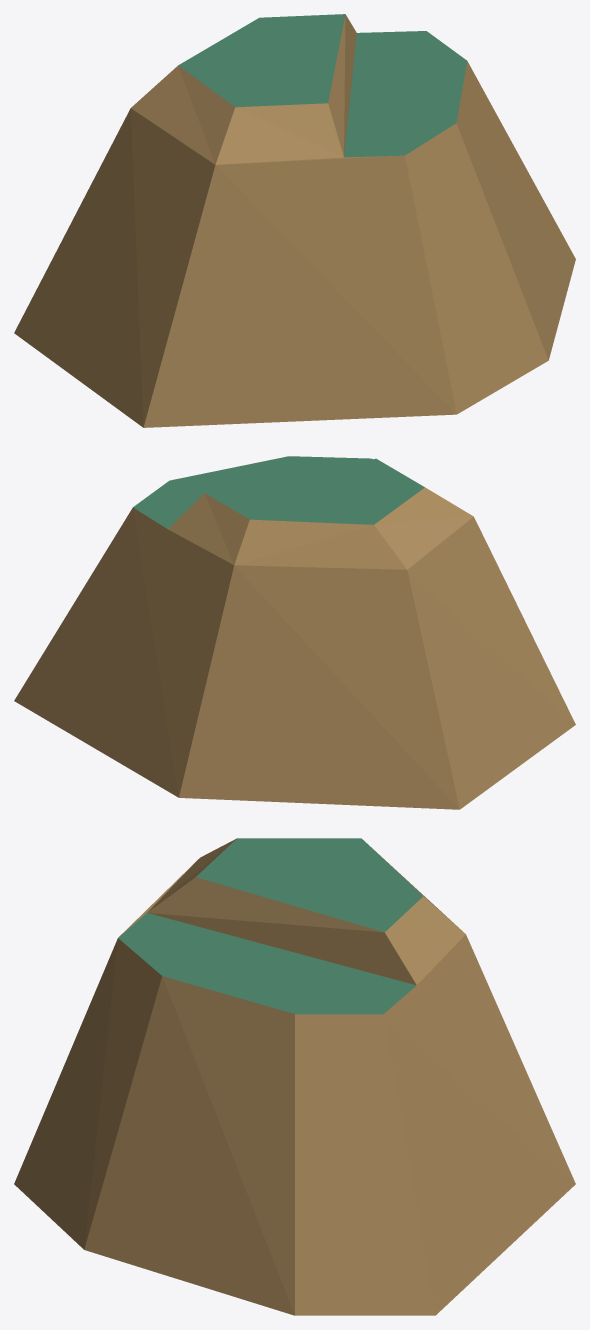
The model's file is Rock_Small_Mesa_Eroded_Moss_Grass_02.FBX.
The picture shows the model from 3 angles, top to bottom: view 1: azimuth 30°, elevation 25°; view 2: azimuth 150°, elevation 25°; view 3: azimuth 270°, elevation 25°; orthographic projection. The views are drawn at different scales.
Visible parts, largest first — view 1: Rock_Small_Mesa_Eroded_Moss_Grass_02; view 2: Rock_Small_Mesa_Eroded_Moss_Grass_02; view 3: Rock_Small_Mesa_Eroded_Moss_Grass_02.
Part boxes in pixels (box(x1,y1,x2,y2)): Rock_Small_Mesa_Eroded_Moss_Grass_02: box(14, 14, 575, 427); Rock_Small_Mesa_Eroded_Moss_Grass_02: box(14, 456, 575, 809); Rock_Small_Mesa_Eroded_Moss_Grass_02: box(14, 838, 575, 1315).
Bounding box in the file's own units: 2406 × 1207 × 2171.
